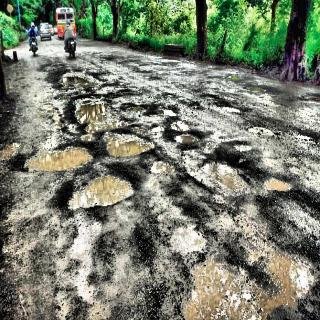pothole: (13, 68, 299, 210), (161, 227, 320, 320)
